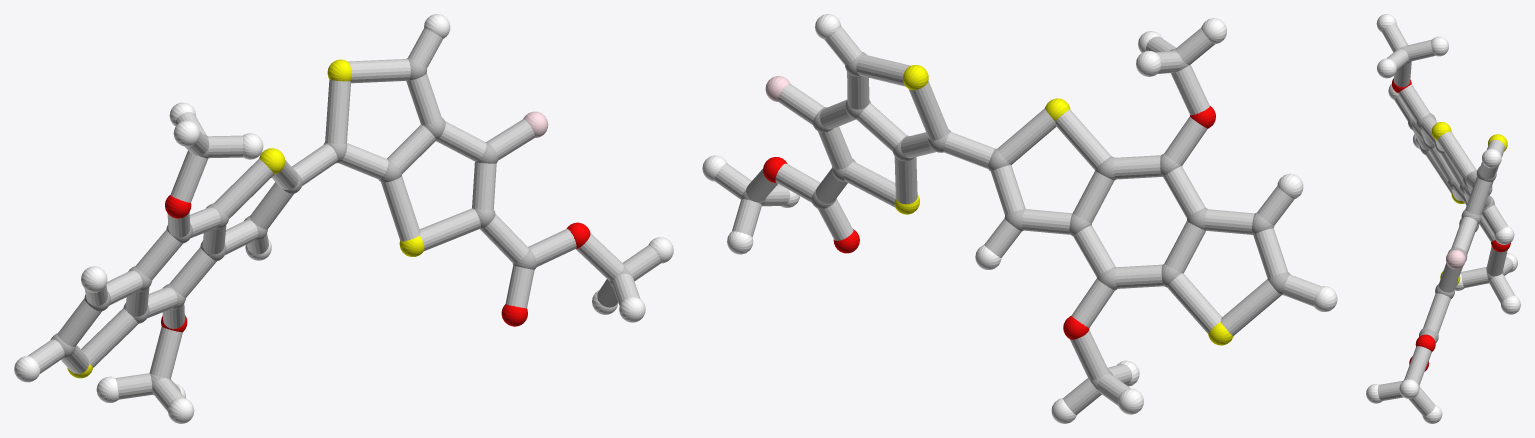
File: Dimethoxy_Benzodithiophene_Phi_15_Theta_130_Methylcarbonyl_3_Fluoro_Thienothiophene.glb
The picture shows the model from 3 angles, left to right: view 1: azimuth 30°, elevation 25°; view 2: azimuth 150°, elevation 25°; view 3: azimuth 270°, elevation 25°; orthographic projection. The views are drawn at different scales.
Parts seen in each view (by area): view 1: grp15205, grp8689, grp1, grp7241, grp13395; view 2: grp15205, grp8689, grp1, grp7241, grp13395; view 3: grp15205, grp8689, grp1, grp13395, grp7241, grp14843.
Part boxes in pixels (x1,y1,x2,y2): grp15205: (28, 28, 661, 411); grp8689: (14, 14, 673, 423); grp1: (50, 58, 631, 394); grp7241: (67, 59, 424, 378); grp13395: (161, 195, 590, 332); grp15205: (714, 26, 1320, 414); grp8689: (702, 14, 1337, 423); grp1: (741, 48, 1290, 389); grp7241: (894, 65, 1233, 345); grp13395: (763, 106, 1215, 339); grp15205: (1377, 24, 1515, 415); grp8689: (1366, 14, 1520, 423); grp1: (1399, 45, 1503, 388); grp13395: (1392, 78, 1510, 371); grp7241: (1431, 122, 1507, 285); grp14843: (1446, 249, 1465, 269).
Size of the model in its own units: 16.89 by 9.08 by 4.65.
